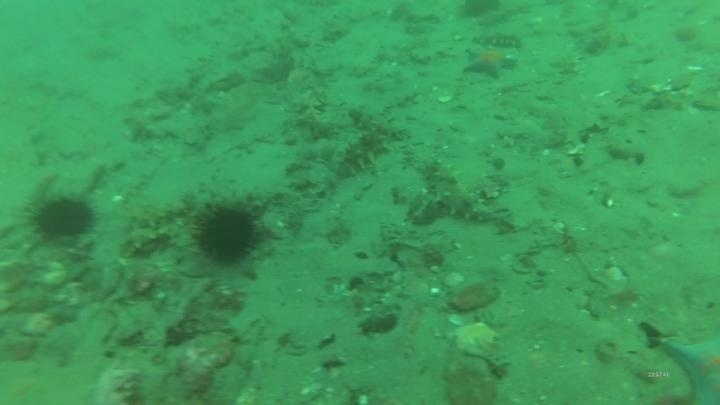echinus: (190, 200, 264, 268), (26, 192, 98, 243), (458, 1, 504, 22)
holothurian: (420, 157, 507, 228), (403, 174, 509, 222), (325, 132, 397, 178), (120, 198, 191, 238), (117, 214, 177, 261), (347, 106, 410, 146), (297, 107, 335, 142), (473, 28, 525, 51), (284, 86, 331, 110)
starfish: (661, 331, 720, 405), (462, 42, 518, 81)
